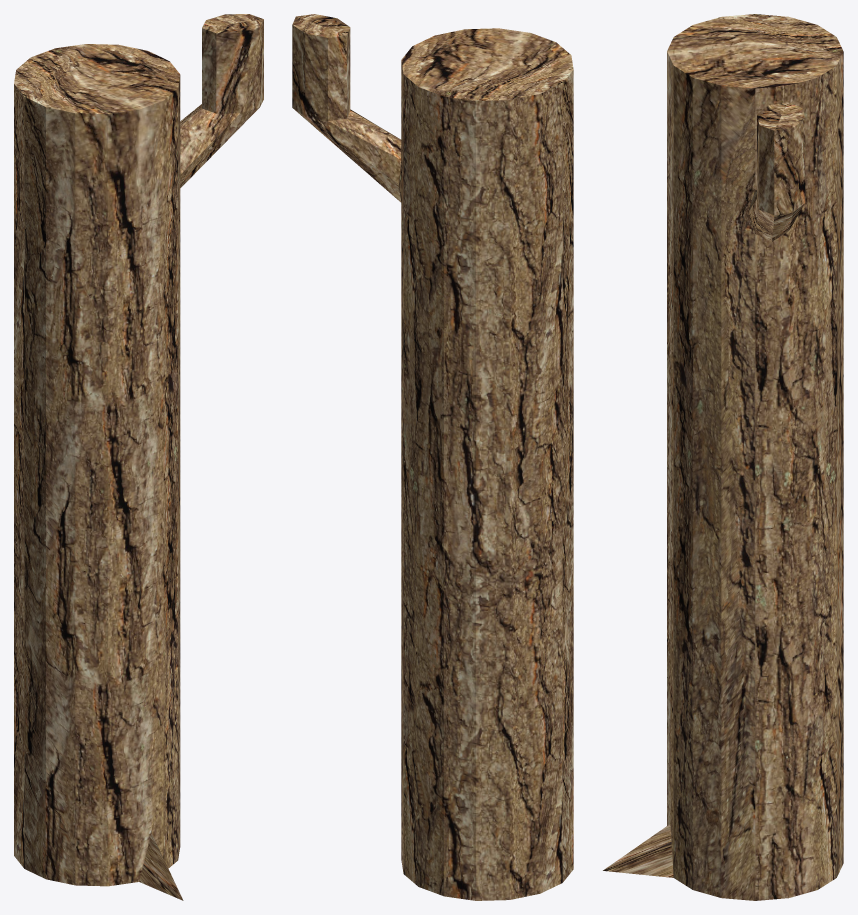
The model's file is trunk.fbx.
3 renders of one model, left to right at view 1: azimuth 30°, elevation 25°; view 2: azimuth 150°, elevation 25°; view 3: azimuth 270°, elevation 25°, orthographic. The views are drawn at different scales.
Visible parts, largest first — view 1: Cylinder; view 2: Cylinder; view 3: Cylinder.
Part boxes in pixels (bbox=[...]): Cylinder: bbox=[14, 14, 263, 900]; Cylinder: bbox=[292, 14, 573, 900]; Cylinder: bbox=[603, 14, 843, 900].
Size of the model in its own units: 175 by 525 by 139.
Materials: 1 (1 with a texture image).
